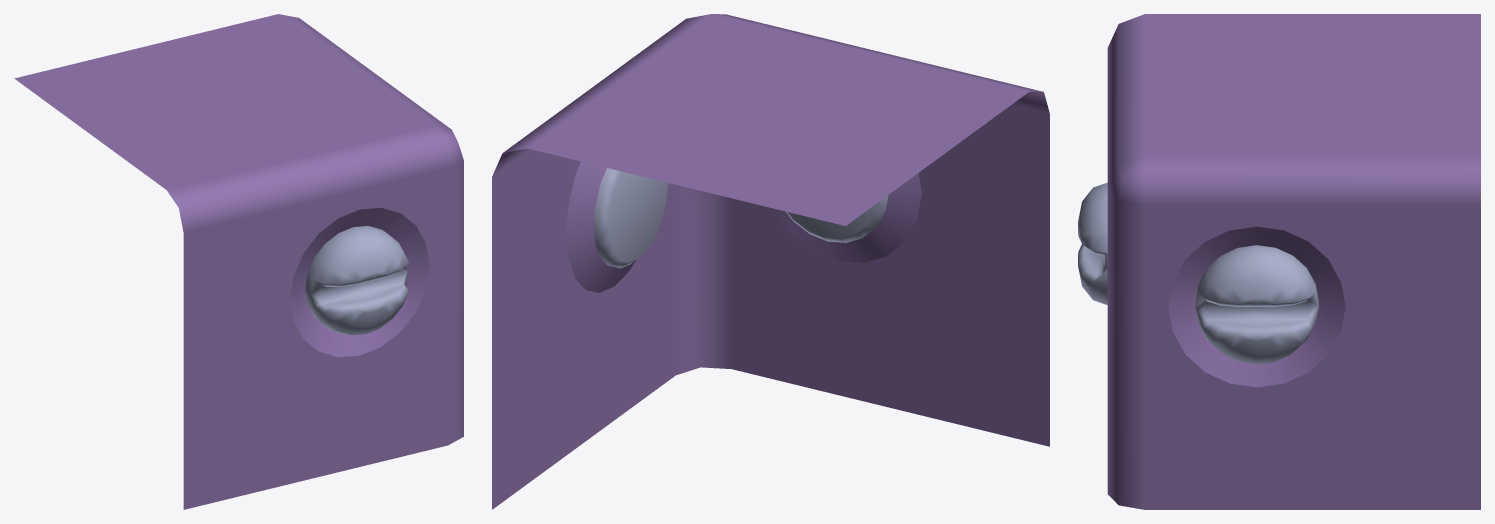
Rendered from basic_top_corner.dae.
3 renders of one model, left to right at view 1: azimuth 30°, elevation 25°; view 2: azimuth 150°, elevation 25°; view 3: azimuth 270°, elevation 25°, orthographic. The views are drawn at different scales.
Parts seen in each view (by area): view 1: TopCorner; view 2: TopCorner; view 3: TopCorner.
Part boxes in pixels (x1,y1,x2,y2): TopCorner: (14, 14, 463, 509); TopCorner: (492, 14, 1049, 509); TopCorner: (1078, 14, 1480, 509).
Size of the model in its own units: 0.2699 by 0.25 by 0.2699.
1 material, 1 textured.
